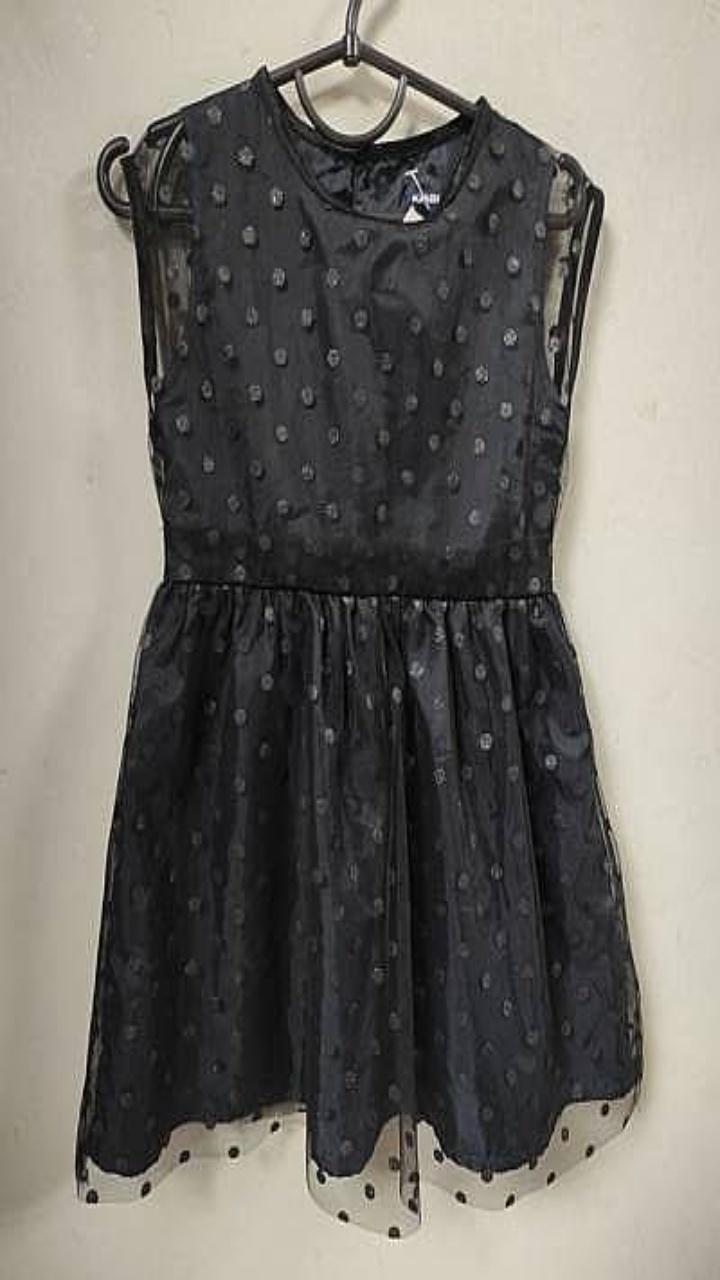Dresses: (77, 65, 642, 1236)
